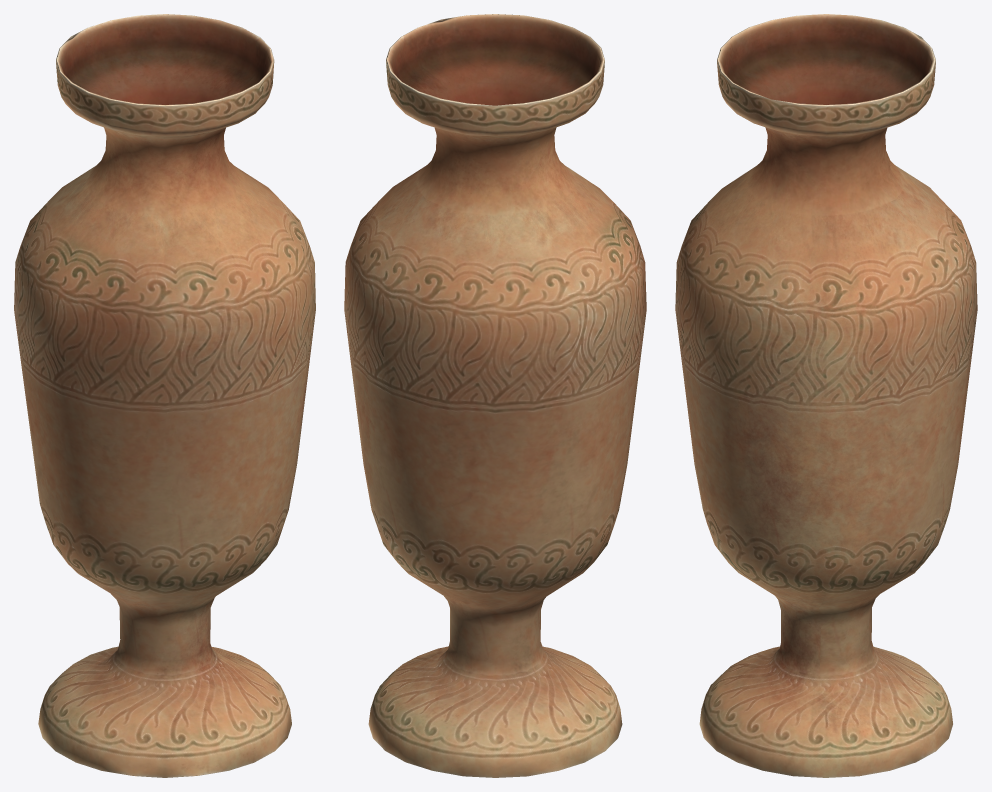
Rendered from brass_vase_03.glb.
3 renders of one model, left to right at view 1: azimuth 30°, elevation 25°; view 2: azimuth 150°, elevation 25°; view 3: azimuth 270°, elevation 25°, orthographic.
Visible parts, largest first — view 1: brass_vase_03; view 2: brass_vase_03; view 3: brass_vase_03.
Part boxes in pixels (x1,y1,x2,y2): brass_vase_03: (14,14,315,777); brass_vase_03: (344,14,646,777); brass_vase_03: (675,14,977,777).
Size of the model in its own units: 0.0825 by 0.2004 by 0.0825.
1 material, 1 textured.
